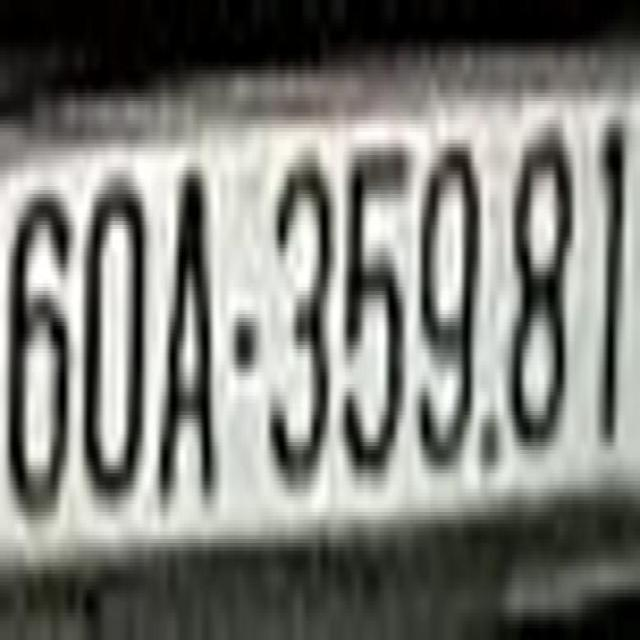0: (81, 132, 145, 532)
1: (588, 85, 638, 485)
3: (266, 124, 331, 489)
5: (338, 105, 406, 492)
6: (6, 159, 74, 543)
8: (508, 86, 570, 473)
9: (414, 112, 478, 485)
A: (158, 143, 218, 520)
